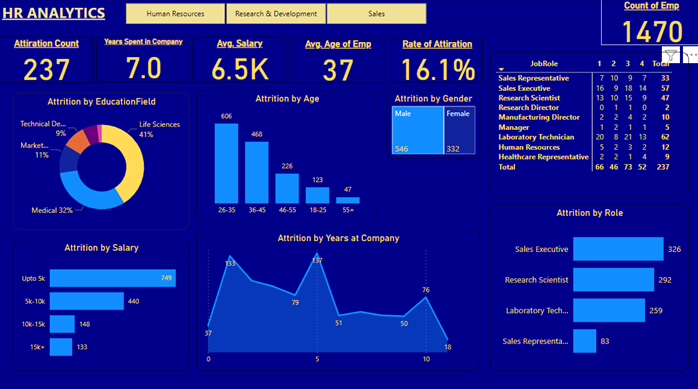

The page's visual inventory and layout, read from the dashboard file:
{"tool":"powerbi","page":{"name":"Page 1","canvas":[1280,720],"ordinal":0},"visuals":[{"type":"card","title":"Count of Emp","fields":{"Values":["CountNonNull(HR_Analytics.EmpID)"]},"box":[1097.2,0,183.1,84.3],"z":0},{"type":"card","title":"Attiration Count","fields":{"Values":["Sum(HR_Analytics.AttirationCount)"]},"box":[0,68.3,170,84.3],"z":1},{"type":"card","title":"Rate of Attiration","fields":{"Values":["HR_Analytics.AttritionRate"]},"box":[715,70,166.7,81.7],"z":2},{"type":"card","title":"Avg. Age of Emp","fields":{"Values":["Avg(HR_Analytics.Age)"]},"box":[530,70,175,83.3],"z":3},{"type":"card","title":"Avg. Salary","fields":{"Values":["Avg(HR_Analytics.MonthlyIncome)"]},"box":[353.3,68.3,170,83.3],"z":4},{"type":"card","title":"Years Spent in Company","fields":{"Values":["Avg(HR_Analytics.YearsAtCompany)"]},"box":[176.7,68.3,170,83.3],"z":5},{"type":"donutChart","title":"Attrition by EducationField","fields":{"Category":["HR_Analytics.EducationField"],"Y":["CountNonNull(HR_Analytics.Attrition)"]},"box":[25,170,321.7,250],"z":6},{"type":"columnChart","title":"Attrition by Age","fields":{"Category":["HR_Analytics.AgeGroup"],"Y":["CountNonNull(HR_Analytics.Attrition)"]},"box":[360,165,330,241.7],"z":7},{"type":"pivotTable","fields":{"Rows":["HR_Analytics.JobRole"],"Columns":["HR_Analytics.JobSatisfaction"],"Values":["Sum(HR_Analytics.AttirationCount)"]},"box":[895,96.7,363.3,263.3],"z":8},{"type":"barChart","title":"Attrition by Salary","fields":{"Category":["HR_Analytics.SalarySlab"],"Y":["CountNonNull(HR_Analytics.Attrition)"]},"box":[25,438.3,321.7,240],"z":9},{"type":"barChart","title":"Attrition by Role","fields":{"Y":["CountNonNull(HR_Analytics.Attrition)"],"Category":["HR_Analytics.JobRole"]},"box":[895,373.3,363.3,305],"z":10},{"type":"areaChart","title":"Attrition by Years at Company","fields":{"Category":["HR_Analytics.YearsAtCompany"],"Y":["CountNonNull(HR_Analytics.Attrition)"]},"box":[360,420,516.7,258.3],"z":11},{"type":"treemap","title":"Attrition by Gender","fields":{"Group":["HR_Analytics.Gender"],"Values":["CountNonNull(HR_Analytics.Attrition)"]},"box":[705,165,171.7,126.7],"z":12},{"type":"slicer","fields":{"Values":["HR_Analytics.Department"]},"box":[205,0,598.3,51.7],"z":13},{"type":"textbox","box":[0,0,240,56.7],"z":14}]}

Visuals, with their boxes in screenshot pixels (x1, y1, x2, y2), scaled from the page's 1280x720 canvas onto the 698x389 screenshot:
"Count of Emp" card: {"left": 598, "top": 0, "right": 697, "bottom": 46}
"Attiration Count" card: {"left": 0, "top": 37, "right": 93, "bottom": 82}
"Rate of Attiration" card: {"left": 390, "top": 38, "right": 481, "bottom": 82}
"Avg. Age of Emp" card: {"left": 289, "top": 38, "right": 384, "bottom": 83}
"Avg. Salary" card: {"left": 193, "top": 37, "right": 285, "bottom": 82}
"Years Spent in Company" card: {"left": 96, "top": 37, "right": 189, "bottom": 82}
"Attrition by EducationField" donutChart: {"left": 14, "top": 92, "right": 189, "bottom": 227}
"Attrition by Age" columnChart: {"left": 196, "top": 89, "right": 376, "bottom": 220}
pivotTable - HR_Analytics.JobRole x HR_Analytics.JobSatisfaction: {"left": 488, "top": 52, "right": 686, "bottom": 194}
"Attrition by Salary" barChart: {"left": 14, "top": 237, "right": 189, "bottom": 366}
"Attrition by Role" barChart: {"left": 488, "top": 202, "right": 686, "bottom": 366}
"Attrition by Years at Company" areaChart: {"left": 196, "top": 227, "right": 478, "bottom": 366}
"Attrition by Gender" treemap: {"left": 384, "top": 89, "right": 478, "bottom": 158}
slicer - HR_Analytics.Department: {"left": 112, "top": 0, "right": 438, "bottom": 28}
textbox: {"left": 0, "top": 0, "right": 131, "bottom": 31}
